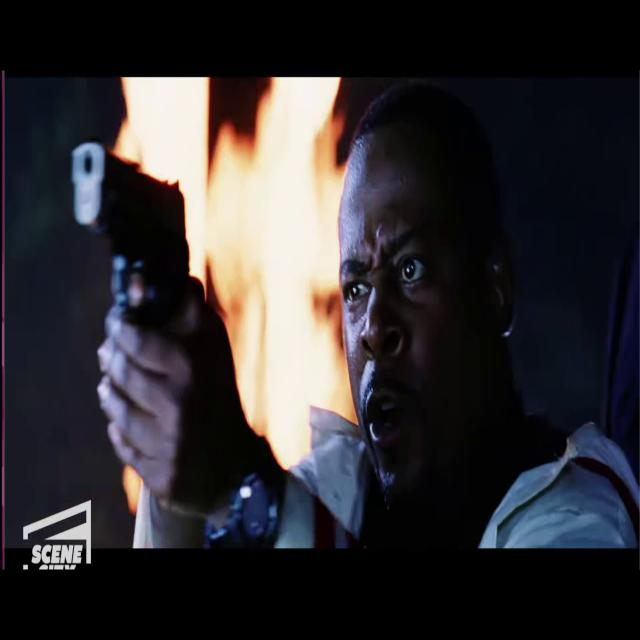weapons: (56, 117, 206, 411)
